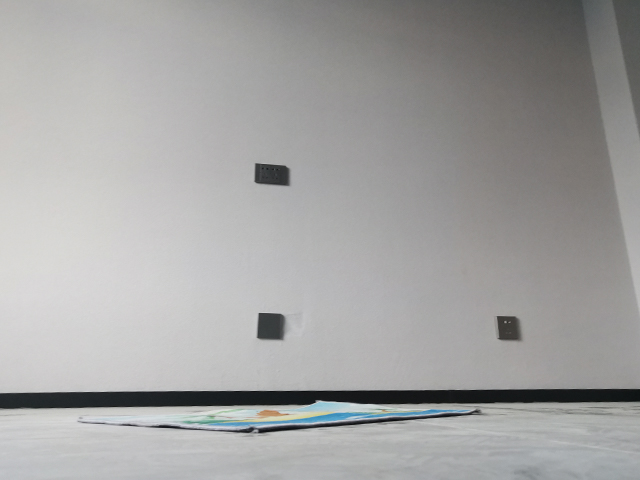carpet: (75, 397, 485, 435)
